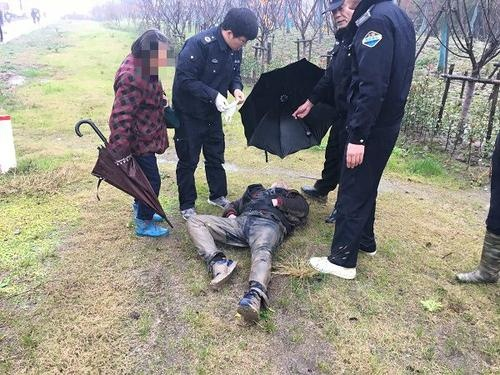falling: (171, 171, 325, 329)
